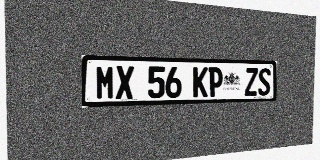5: (148, 66, 165, 98)
6: (165, 66, 182, 98)
K: (193, 67, 208, 97)
M: (95, 65, 115, 100)
P: (208, 67, 223, 97)
S: (258, 68, 271, 96)
X: (115, 66, 134, 99)
Z: (245, 68, 258, 96)
